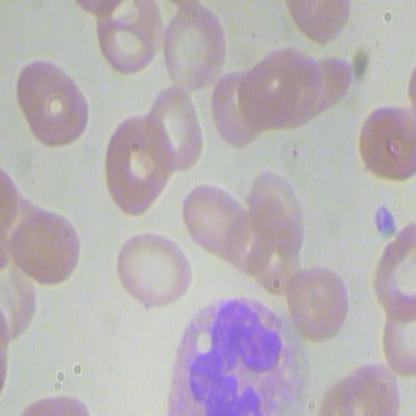Platelets: (368, 203, 402, 240)
RBC: (96, 112, 180, 217), (107, 226, 193, 316), (10, 57, 96, 147), (177, 171, 249, 268), (155, 2, 230, 92), (8, 202, 86, 288), (352, 95, 416, 186), (287, 254, 350, 345), (248, 165, 305, 257), (236, 60, 303, 138)
WBC: (162, 297, 316, 416)
